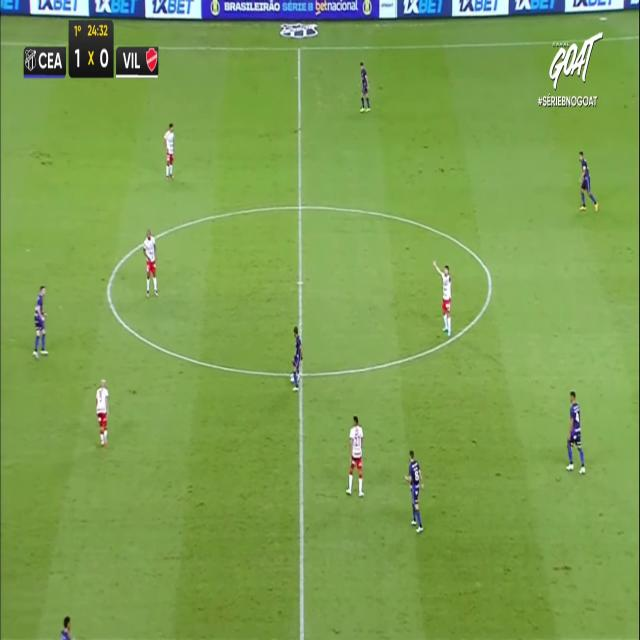ball: (289, 371, 297, 387)
player: (566, 390, 585, 473), (405, 450, 424, 532), (345, 415, 364, 496), (433, 261, 451, 335), (578, 150, 598, 211), (33, 285, 48, 358), (143, 228, 158, 297), (95, 378, 109, 446), (290, 324, 302, 388), (163, 122, 174, 179), (359, 60, 370, 111)
